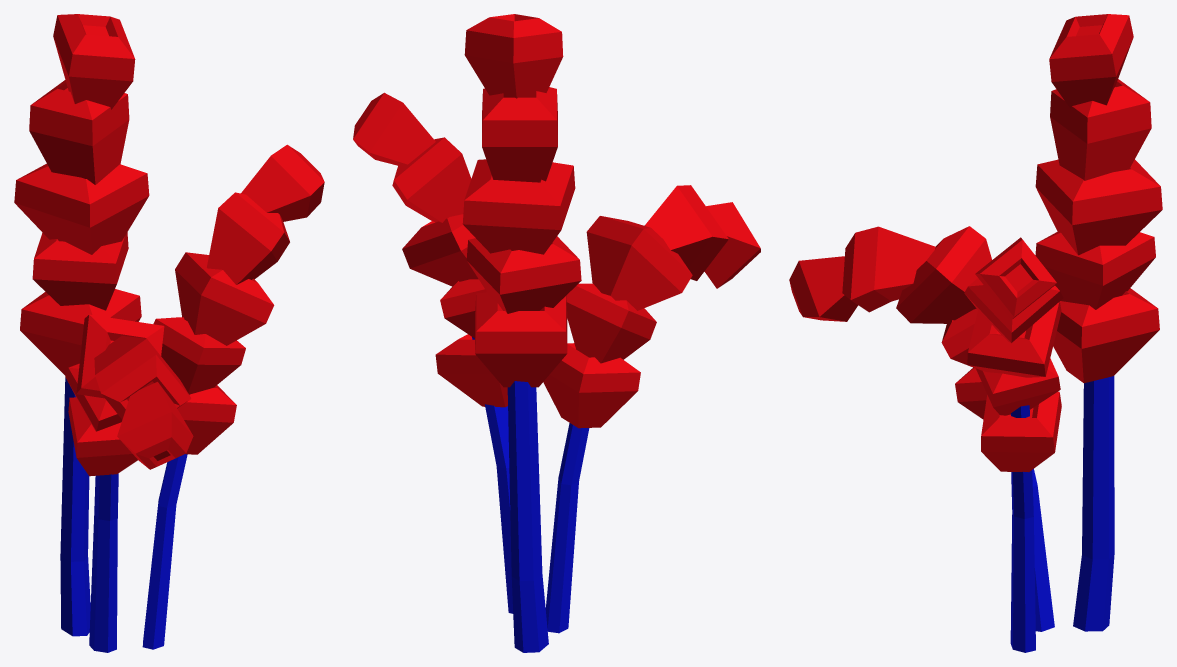
File: SM_Wheat1.fbx
3 views of the same model, side by side, from view 1: azimuth 30°, elevation 25°; view 2: azimuth 150°, elevation 25°; view 3: azimuth 270°, elevation 25° (orthographic). The views are drawn at different scales.
Parts seen in each view (by area): view 1: SM_Wheat1; view 2: SM_Wheat1; view 3: SM_Wheat1.
Part boxes in pixels (left/top/right/bottom): SM_Wheat1: left=14, top=14, right=324, bottom=652; SM_Wheat1: left=353, top=14, right=760, bottom=652; SM_Wheat1: left=789, top=14, right=1162, bottom=652.
Size of the model in its own units: 23.31 by 45.62 by 25.06.
